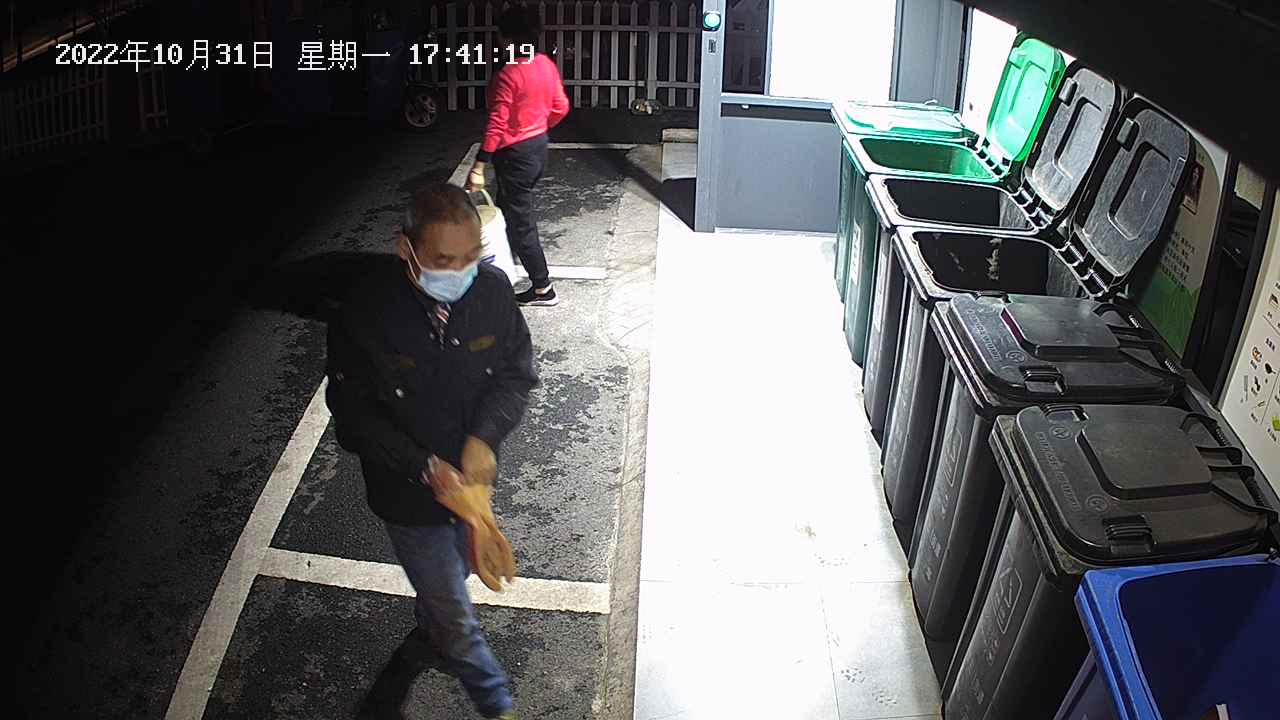person: (321, 181, 539, 720), (463, 8, 569, 307)
